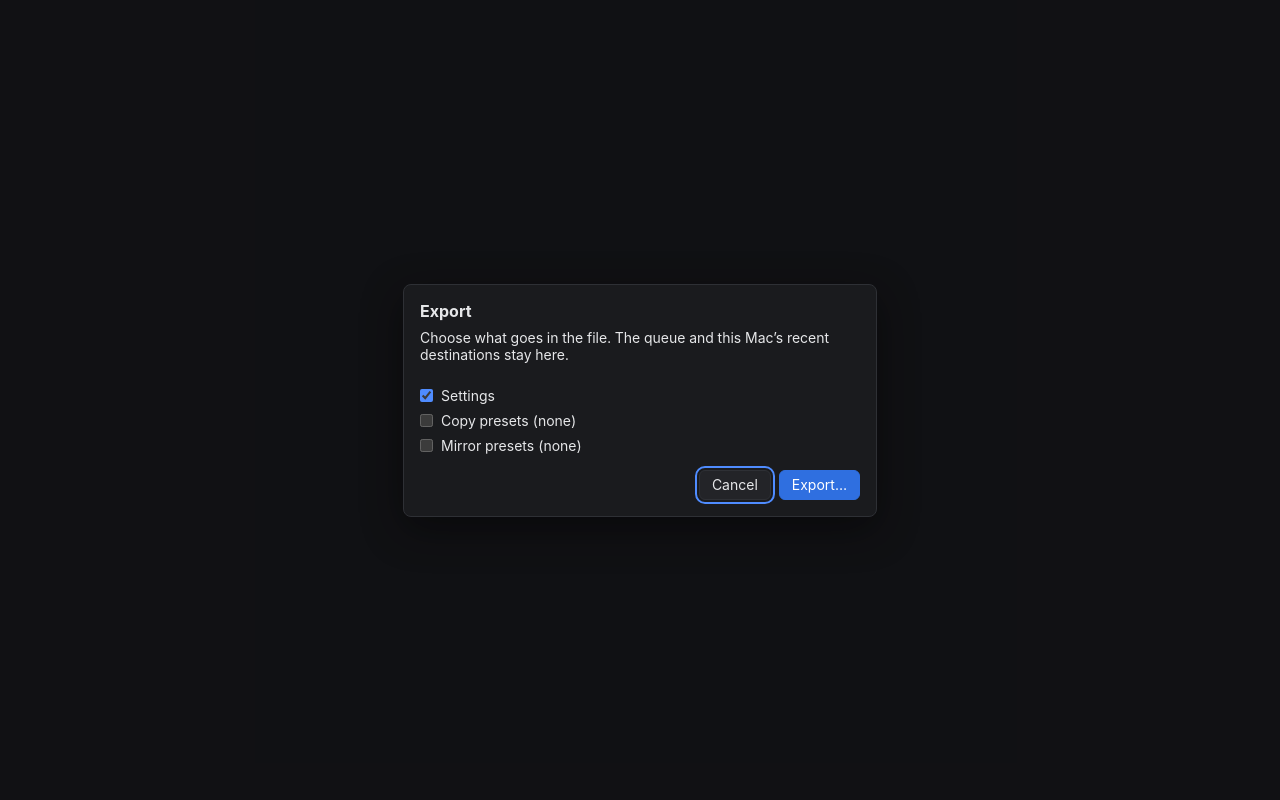
Test: ExportDialog › with nothing ticked, Export… is off
Step 1. Click the checkbox labelled "Settings" → coordinates (426, 395), box [420,388,433,402]
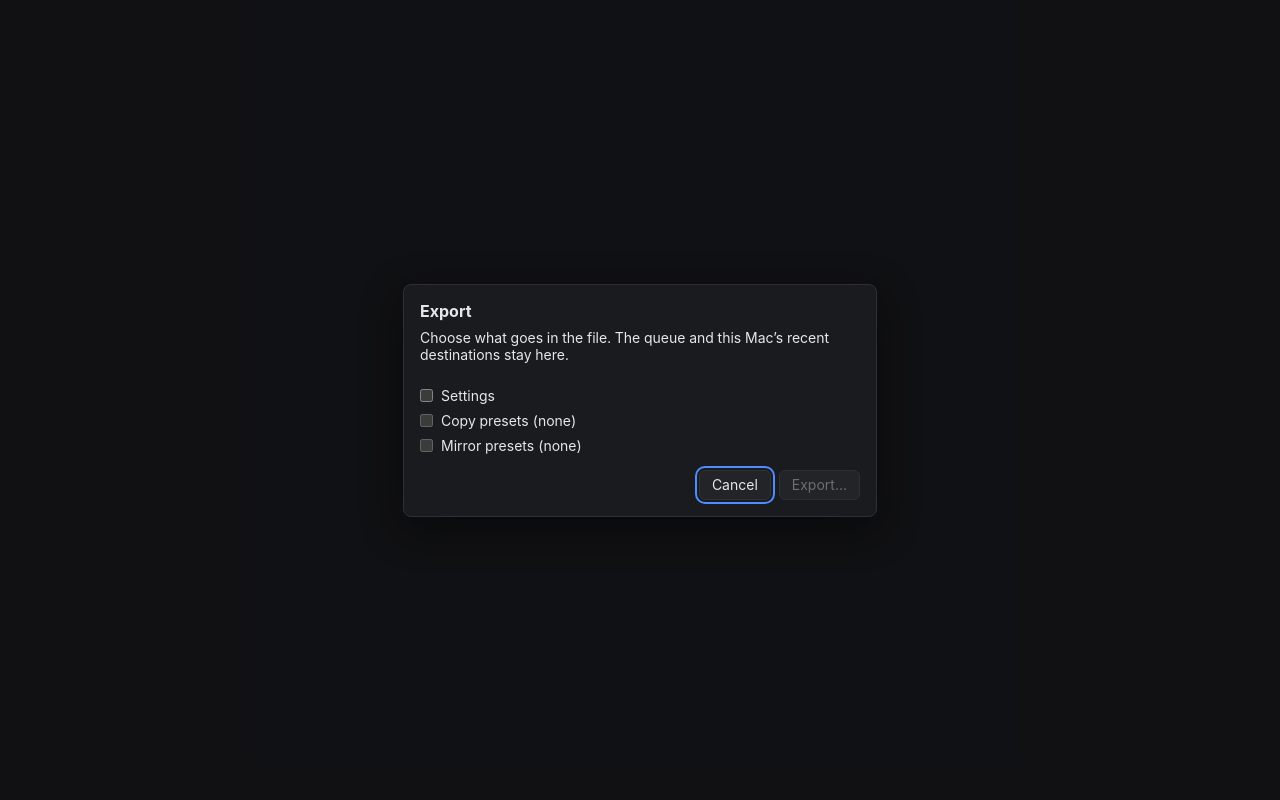
Expected: the button "Export…" is disabled, [779,470,860,500]
